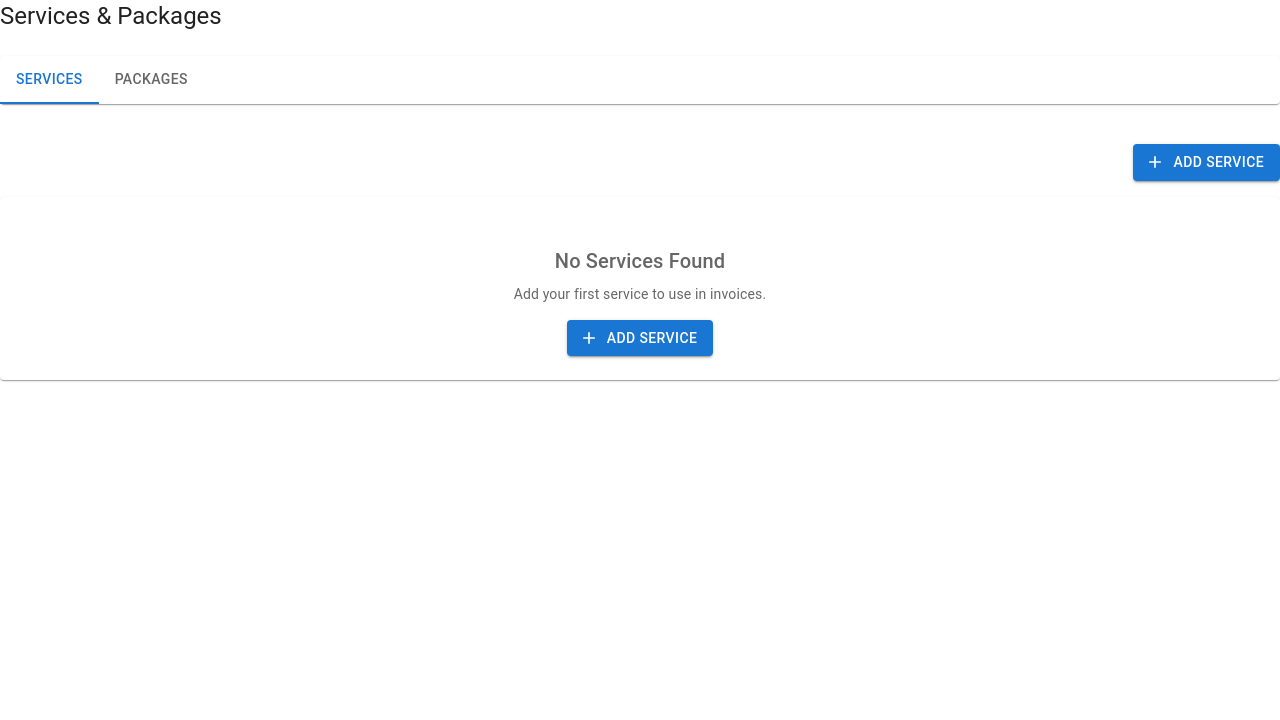
Test: Services Component › Services Tab › Add Service Dialog › should show validation error when required fields are empty
expect the heading "No Services Found" is shown: met, box [555,248,725,272]
Click the 1st button "Add Service" at (1207, 162), box [1133,144,1279,180]
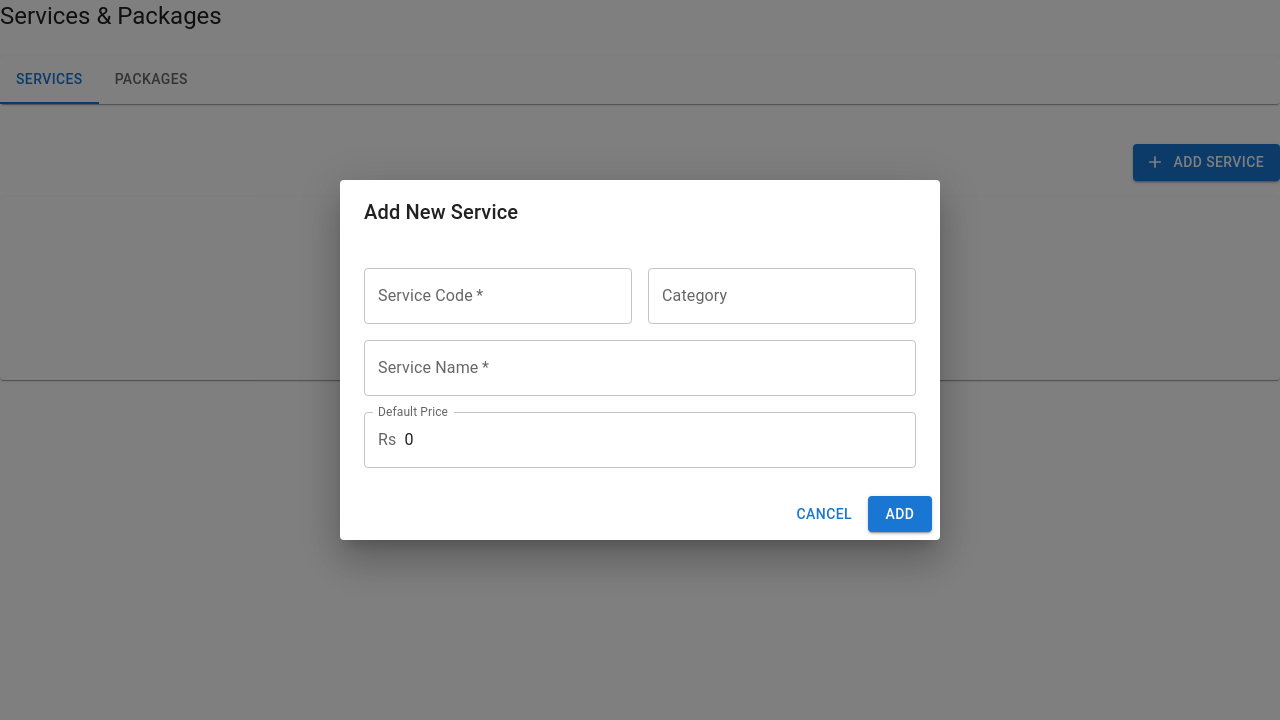
// Click save without filling required fields
Click the button "Add" at (900, 514), box [868,496,932,532]
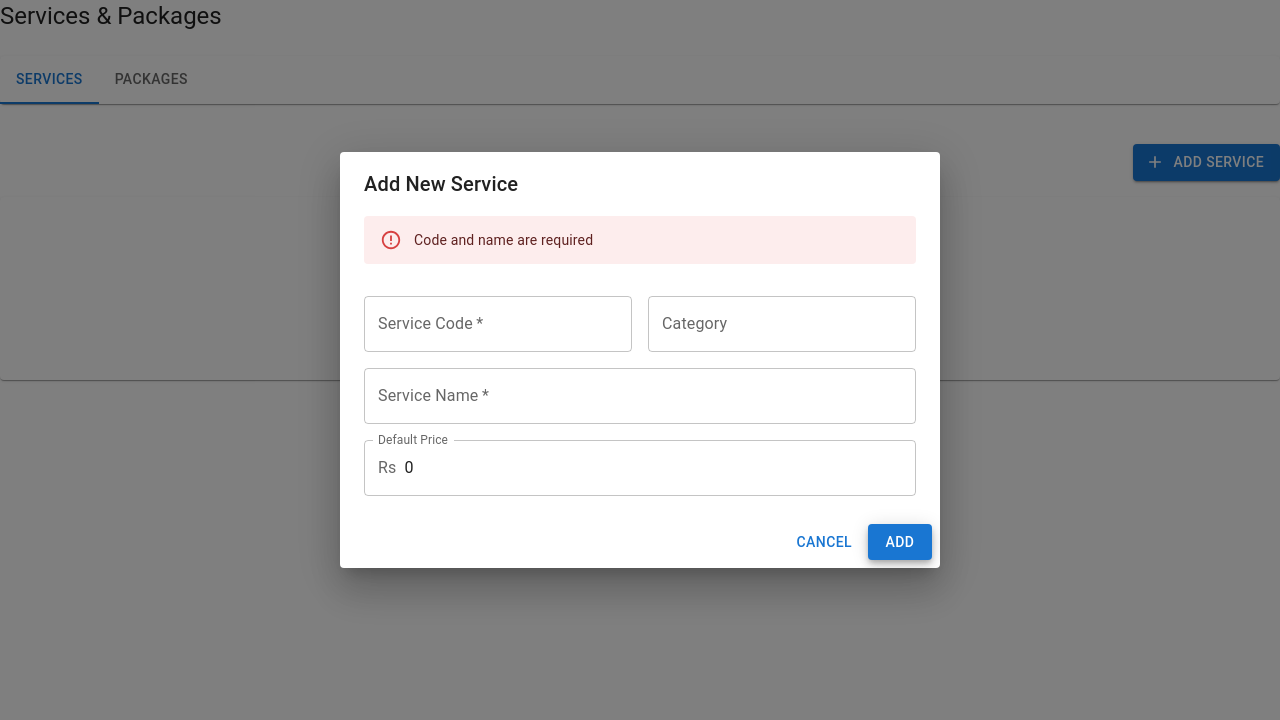
expect the text "Code and name are required" is shown: met, box [414,232,593,248]
